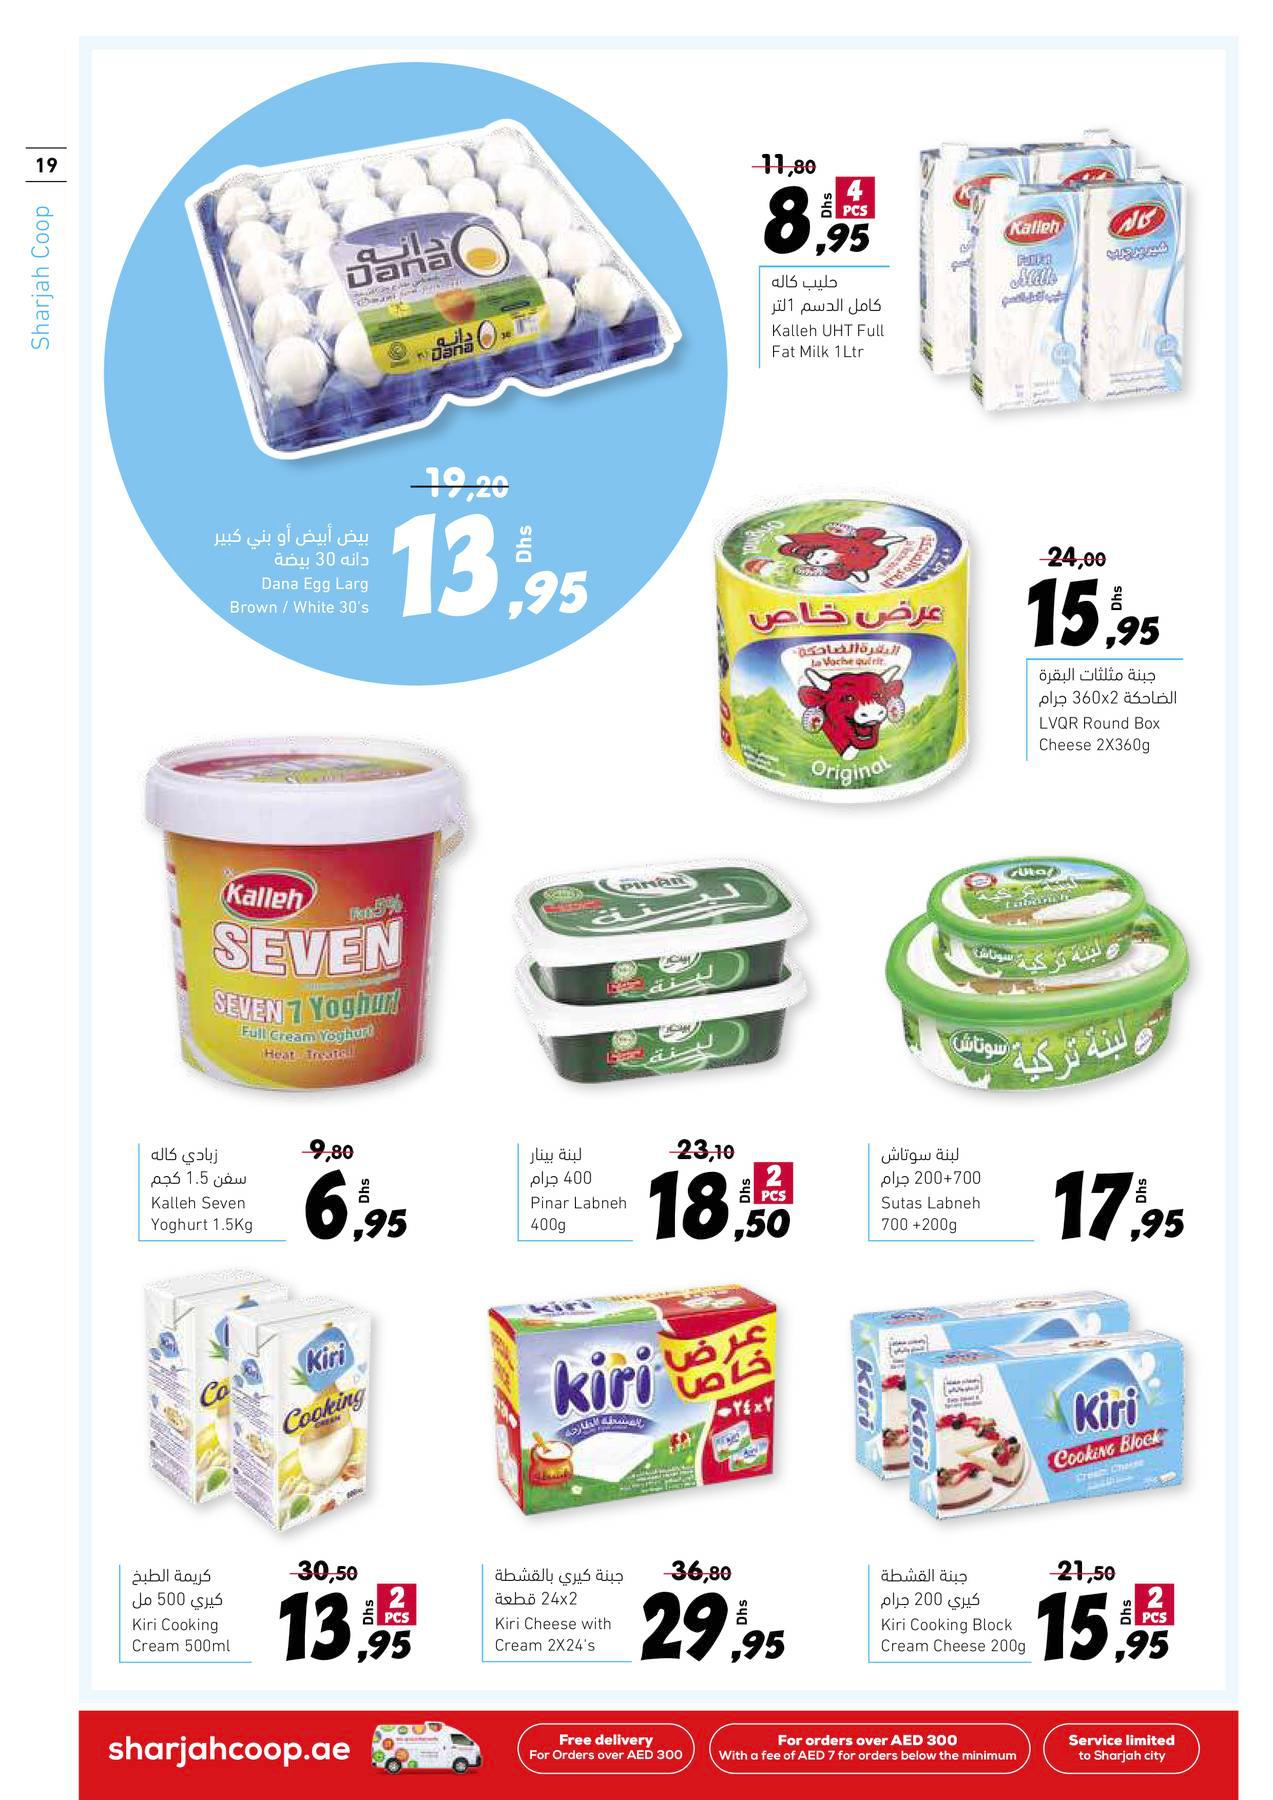text: (200, 516, 383, 627), (873, 1559, 1031, 1658), (1032, 662, 1186, 759), (763, 270, 900, 369), (488, 1562, 628, 1657), (143, 1139, 271, 1239), (872, 1138, 997, 1238), (521, 1138, 635, 1238), (125, 1564, 242, 1658)
